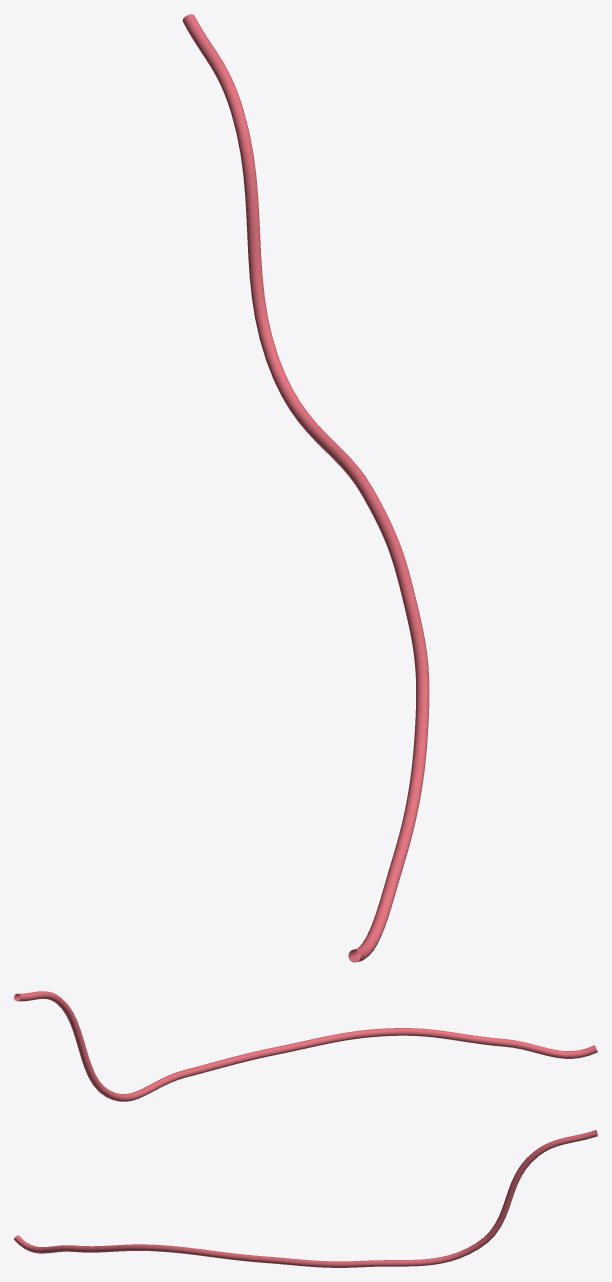
3 renders of one model, top to bottom at view 1: azimuth 30°, elevation 25°; view 2: azimuth 150°, elevation 25°; view 3: azimuth 270°, elevation 25°, orthographic. The views are drawn at different scales.
Parts seen in each view (by area): view 1: ZA_ec5e4985f43cd4a4; view 2: ZA_ec5e4985f43cd4a4; view 3: ZA_ec5e4985f43cd4a4.
Part boxes in pixels (bbox=[...]): ZA_ec5e4985f43cd4a4: bbox=[182, 14, 429, 962]; ZA_ec5e4985f43cd4a4: bbox=[14, 991, 597, 1101]; ZA_ec5e4985f43cd4a4: bbox=[14, 1130, 597, 1267].
Size of the model in its own units: 0.0147 by 0.0142 by 0.035.
